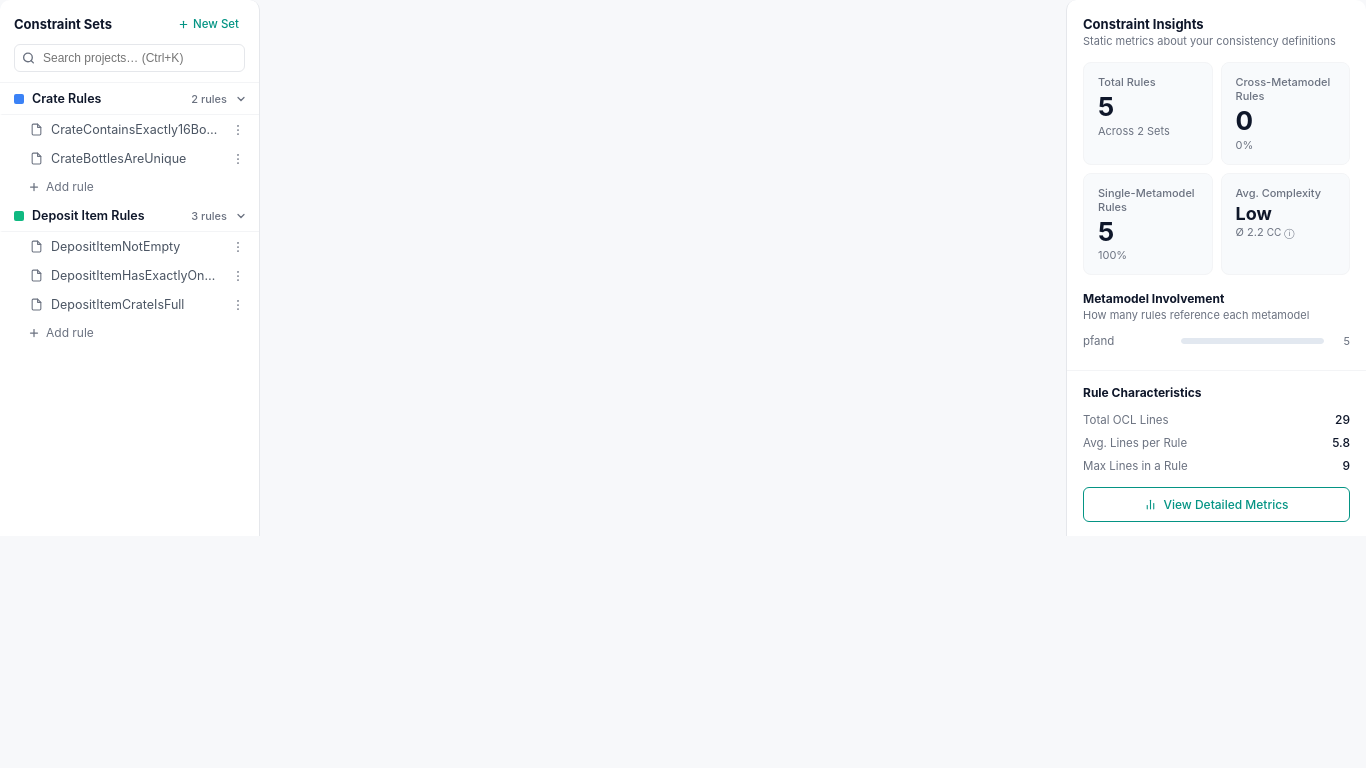
Scenario: ConstraintsView › metrics panel › opens DetailedMetricsModal when button clicked
Click the button "View Detailed Metrics". click: coordinates (1216, 505)
box: x1=1083 y1=487 x2=1350 y2=522
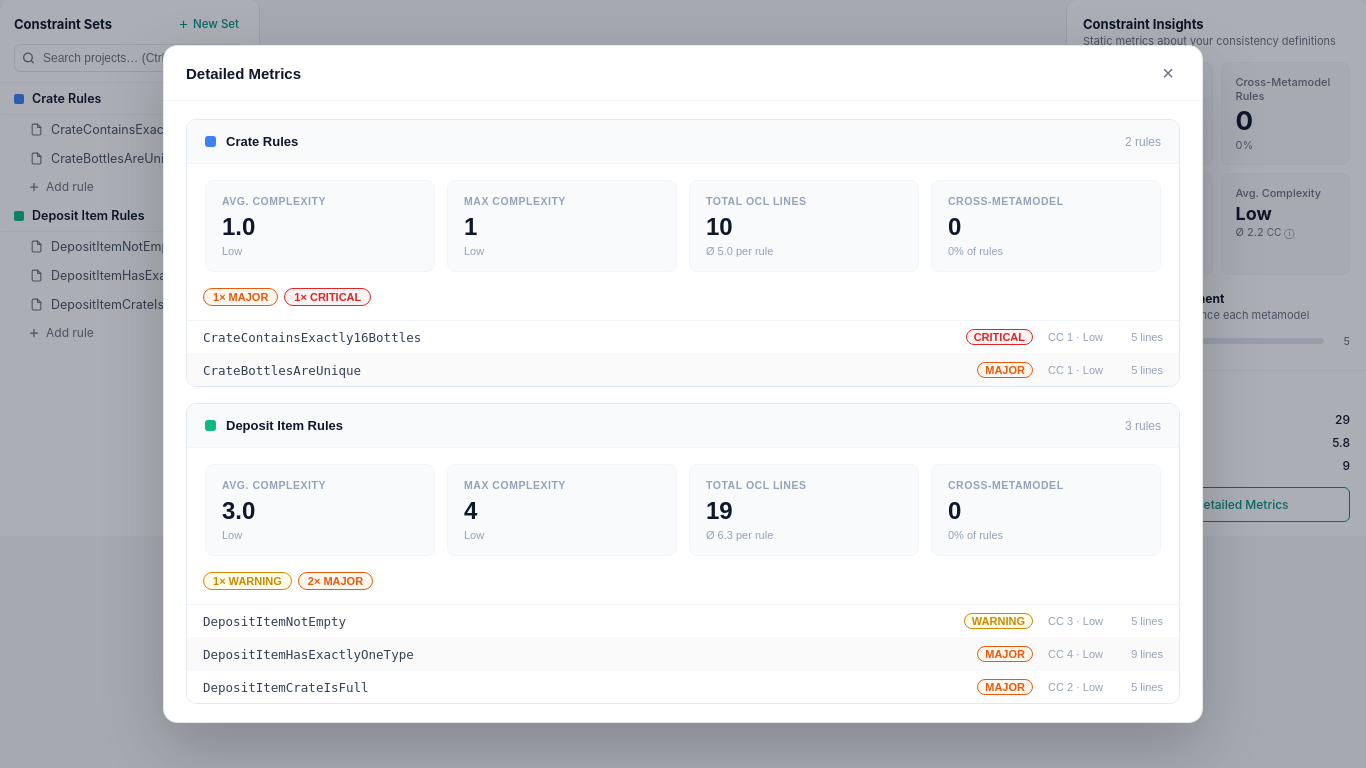
Now the text "Detailed Metrics" is shown, box x1=186 y1=64 x2=301 y2=82
Now the dialog is shown
